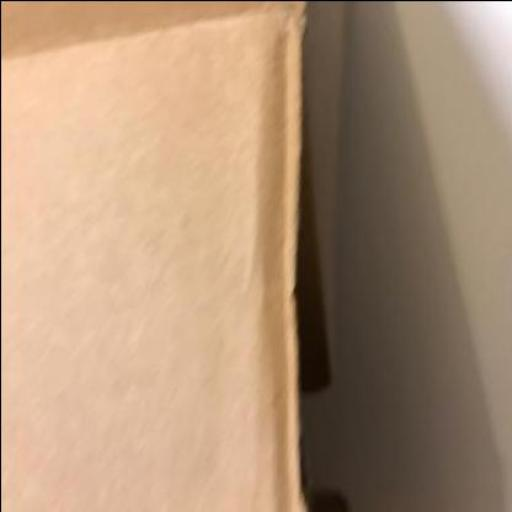cardboard: (1, 0, 347, 511)
